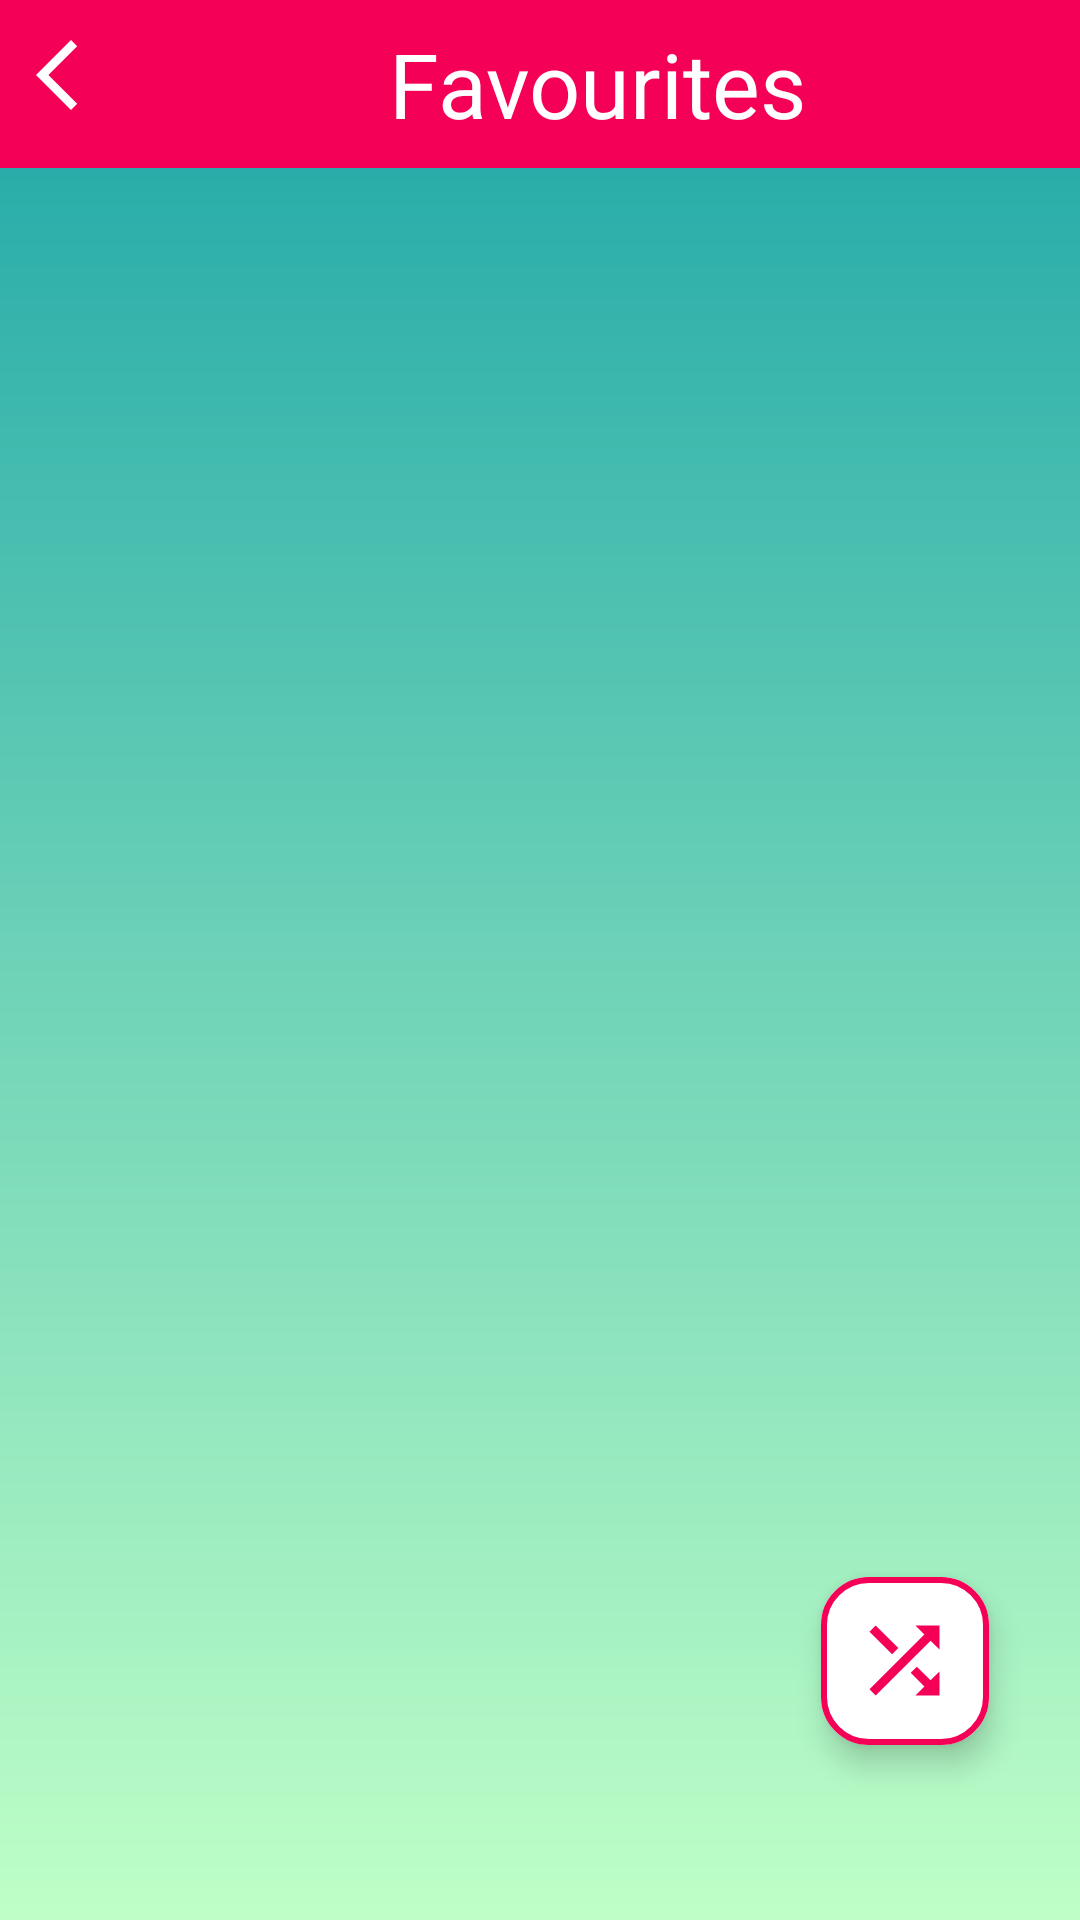

Icons on this 1080x1920 Android screen, each with its box as {"left": x1, "top": y1, "right": x2, "bottom": y2}:
Back: {"left": 36, "top": 40, "right": 77, "bottom": 110}
shuffle: {"left": 821, "top": 1577, "right": 989, "bottom": 1745}
